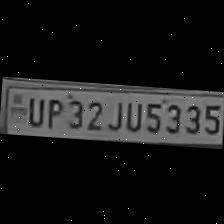2: (84, 96, 104, 130)
3: (162, 99, 182, 134), (181, 98, 201, 133), (64, 94, 84, 128)
5: (200, 99, 222, 134), (142, 98, 162, 132)
J: (104, 96, 124, 130)
P: (43, 93, 62, 129)
U: (123, 97, 143, 132), (23, 93, 44, 126)
